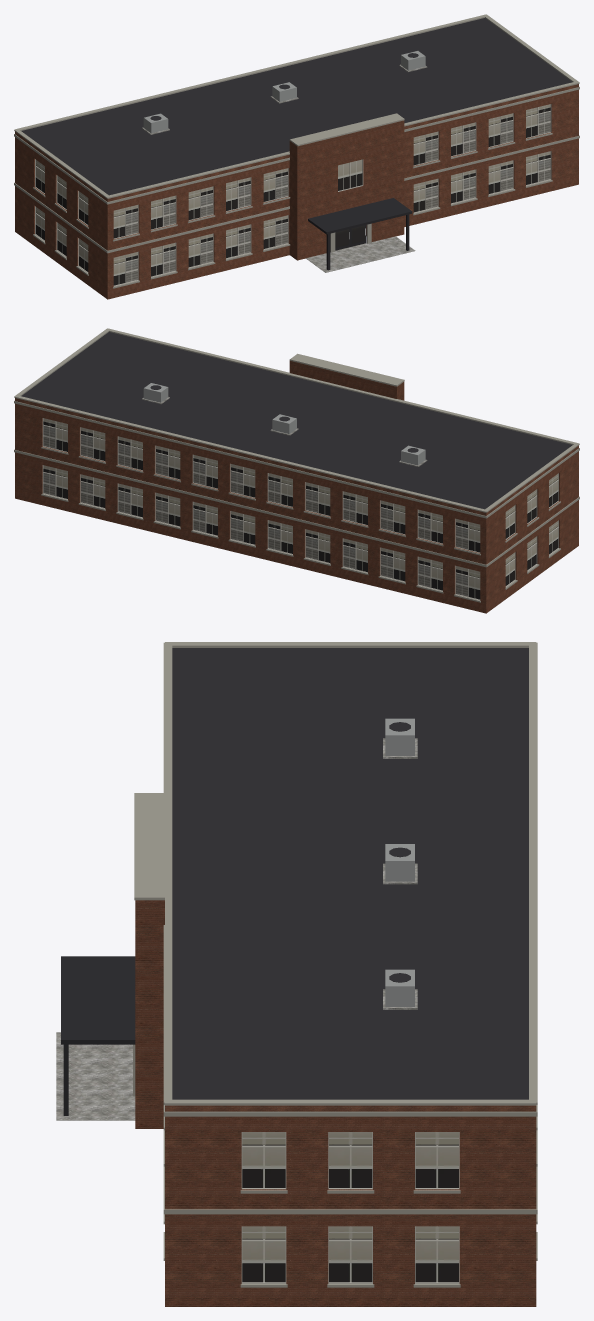
File: town_school 2.gltf
The picture shows the model from 3 angles, top to bottom: view 1: azimuth 30°, elevation 25°; view 2: azimuth 150°, elevation 25°; view 3: azimuth 270°, elevation 25°; orthographic projection. The views are drawn at different scales.
Visible parts, largest first — view 1: TownSchool_RoofDeck, TownSchool_Walls, TownSchool_Window, TownSchool_Pavilion, TownSchool_Coping, TownSchool_Frames, TownSchool_Trim, TownSchool_Canopy, TownSchool_Walk, TownSchool_Sills, TownSchool_Reveals, TownSchool_HVAC; view 2: TownSchool_RoofDeck, TownSchool_Walls, TownSchool_Window, TownSchool_Coping, TownSchool_Frames, TownSchool_Trim, TownSchool_Sills, TownSchool_Reveals, TownSchool_Pavilion, TownSchool_HVAC; view 3: TownSchool_RoofDeck, TownSchool_Walls, TownSchool_Coping, TownSchool_Window, TownSchool_Canopy, TownSchool_Pavilion, TownSchool_Walk, TownSchool_Trim, TownSchool_HVAC, TownSchool_Frames, TownSchool_Sills.
Part boxes in pixels (x1,y1,x2,y2): TownSchool_RoofDeck: (21, 18, 572, 195); TownSchool_Walls: (15, 84, 578, 299); TownSchool_Window: (35, 104, 550, 285); TownSchool_Pavilion: (289, 120, 404, 260); TownSchool_Coping: (14, 14, 579, 198); TownSchool_Frames: (35, 104, 551, 286); TownSchool_Trim: (14, 86, 579, 253); TownSchool_Canopy: (308, 198, 412, 234); TownSchool_Walk: (306, 236, 415, 272); TownSchool_Sills: (33, 133, 552, 288); TownSchool_Reveals: (34, 104, 551, 280); TownSchool_HVAC: (142, 51, 427, 134); TownSchool_RoofDeck: (21, 332, 572, 509); TownSchool_Walls: (15, 398, 578, 613); TownSchool_Window: (43, 418, 558, 599); TownSchool_Coping: (14, 328, 579, 512); TownSchool_Frames: (42, 418, 558, 600); TownSchool_Trim: (14, 400, 579, 567); TownSchool_Sills: (41, 447, 560, 602); TownSchool_Reveals: (42, 418, 559, 594); TownSchool_Pavilion: (289, 361, 404, 400); TownSchool_HVAC: (142, 383, 427, 466); TownSchool_RoofDeck: (172, 648, 528, 1099); TownSchool_Walls: (165, 1105, 536, 1306); TownSchool_Coping: (134, 642, 537, 1105); TownSchool_Window: (242, 1132, 458, 1282); TownSchool_Canopy: (61, 956, 135, 1044); TownSchool_Pavilion: (135, 900, 164, 1128); TownSchool_Walk: (56, 1032, 135, 1120); TownSchool_Trim: (163, 1105, 537, 1214); TownSchool_HVAC: (383, 718, 417, 1009); TownSchool_Frames: (241, 1132, 459, 1283); TownSchool_Sills: (163, 1116, 537, 1287).
Size of what is drawn, in the model's own units: 44.12 by 10.32 by 19.46.
2 materials, 2 textured.
